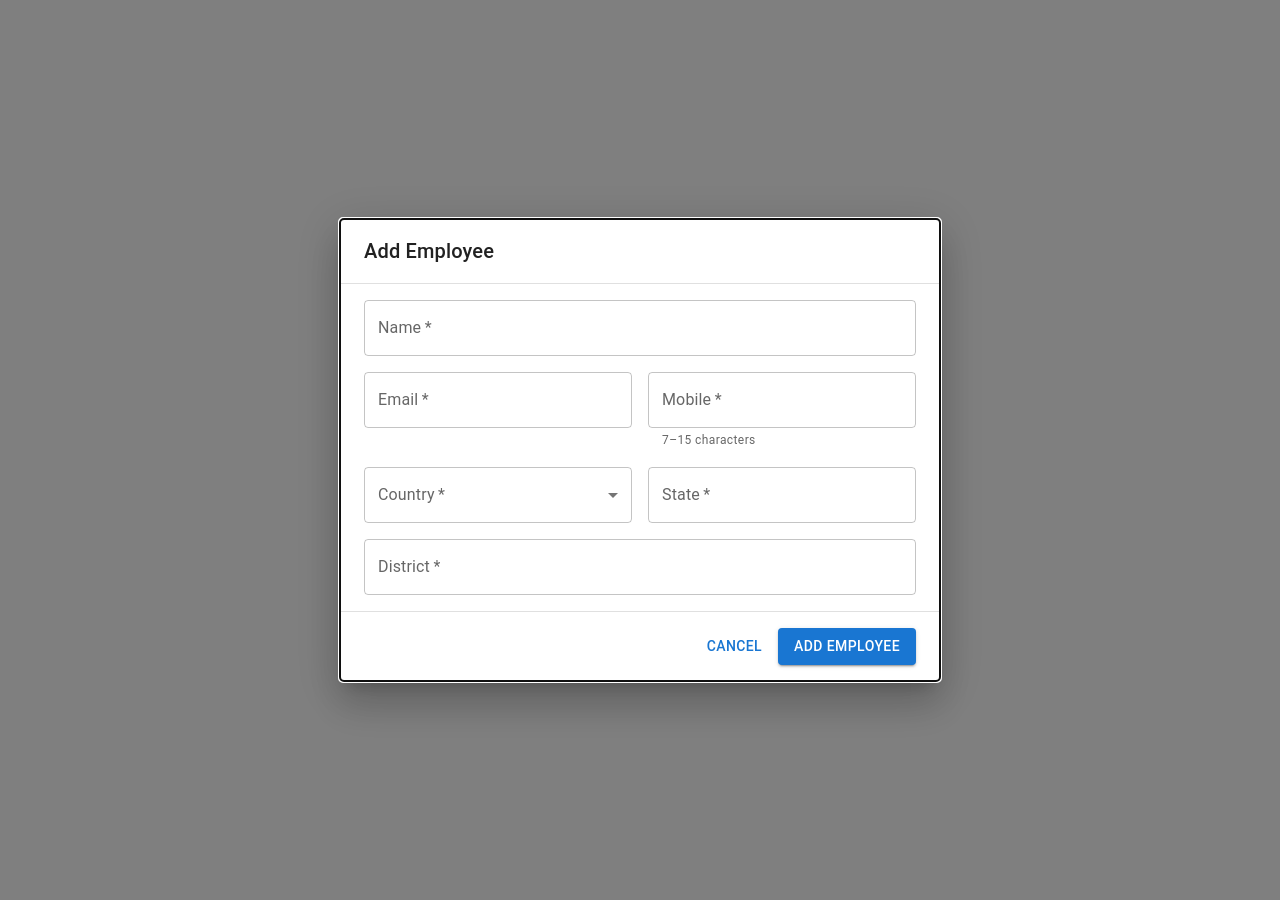
Scenario: EmployeeForm › shows validation errors when submitted empty
This screenshot has width=1280, height=900.
Click the button "Add Employee": point(847, 646) [778, 628, 916, 665]
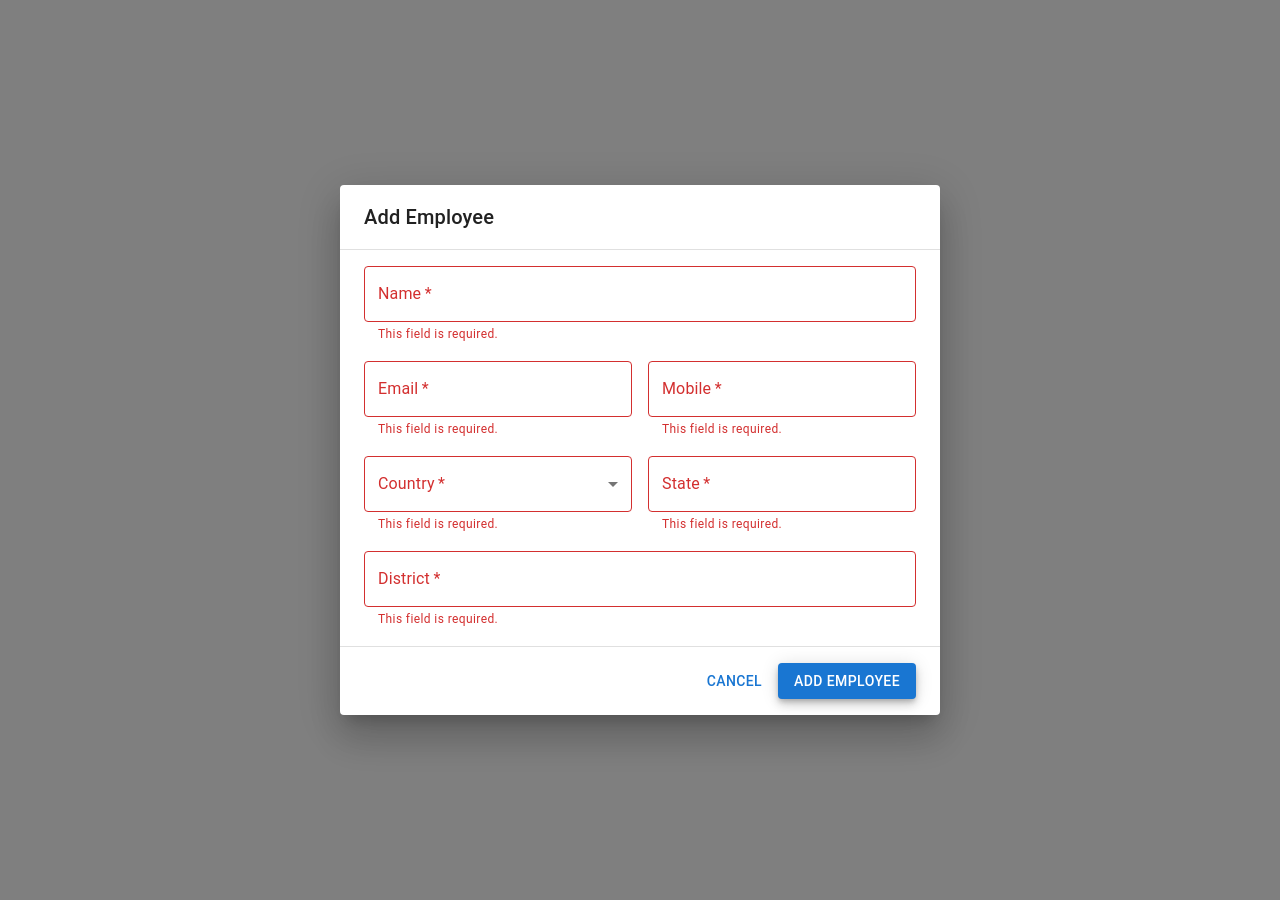
Now the text "This field is required." below "Name" is shown, box [378, 327, 498, 341]
